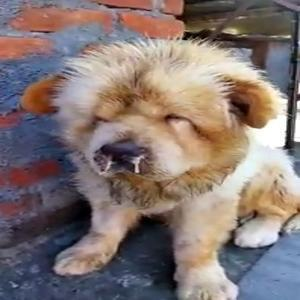nasal_discharge: (96, 140, 148, 175)
